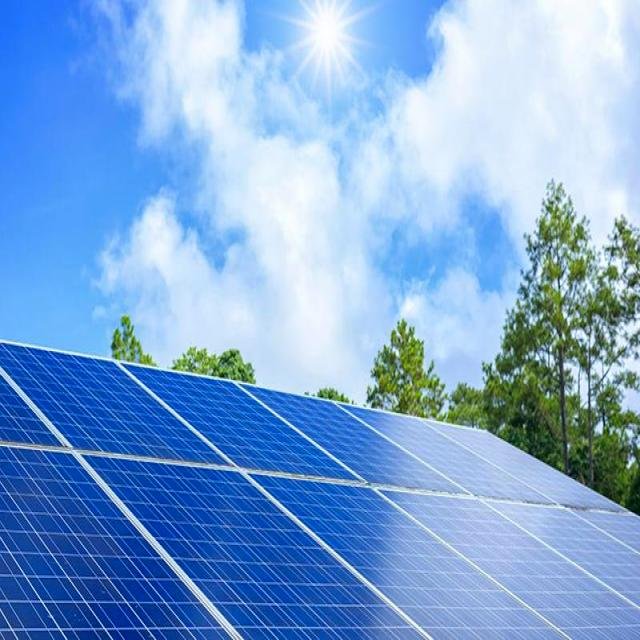crack: (68, 438, 422, 640), (240, 455, 540, 640), (368, 475, 640, 640), (110, 340, 368, 507), (229, 367, 472, 517), (0, 338, 232, 490)
